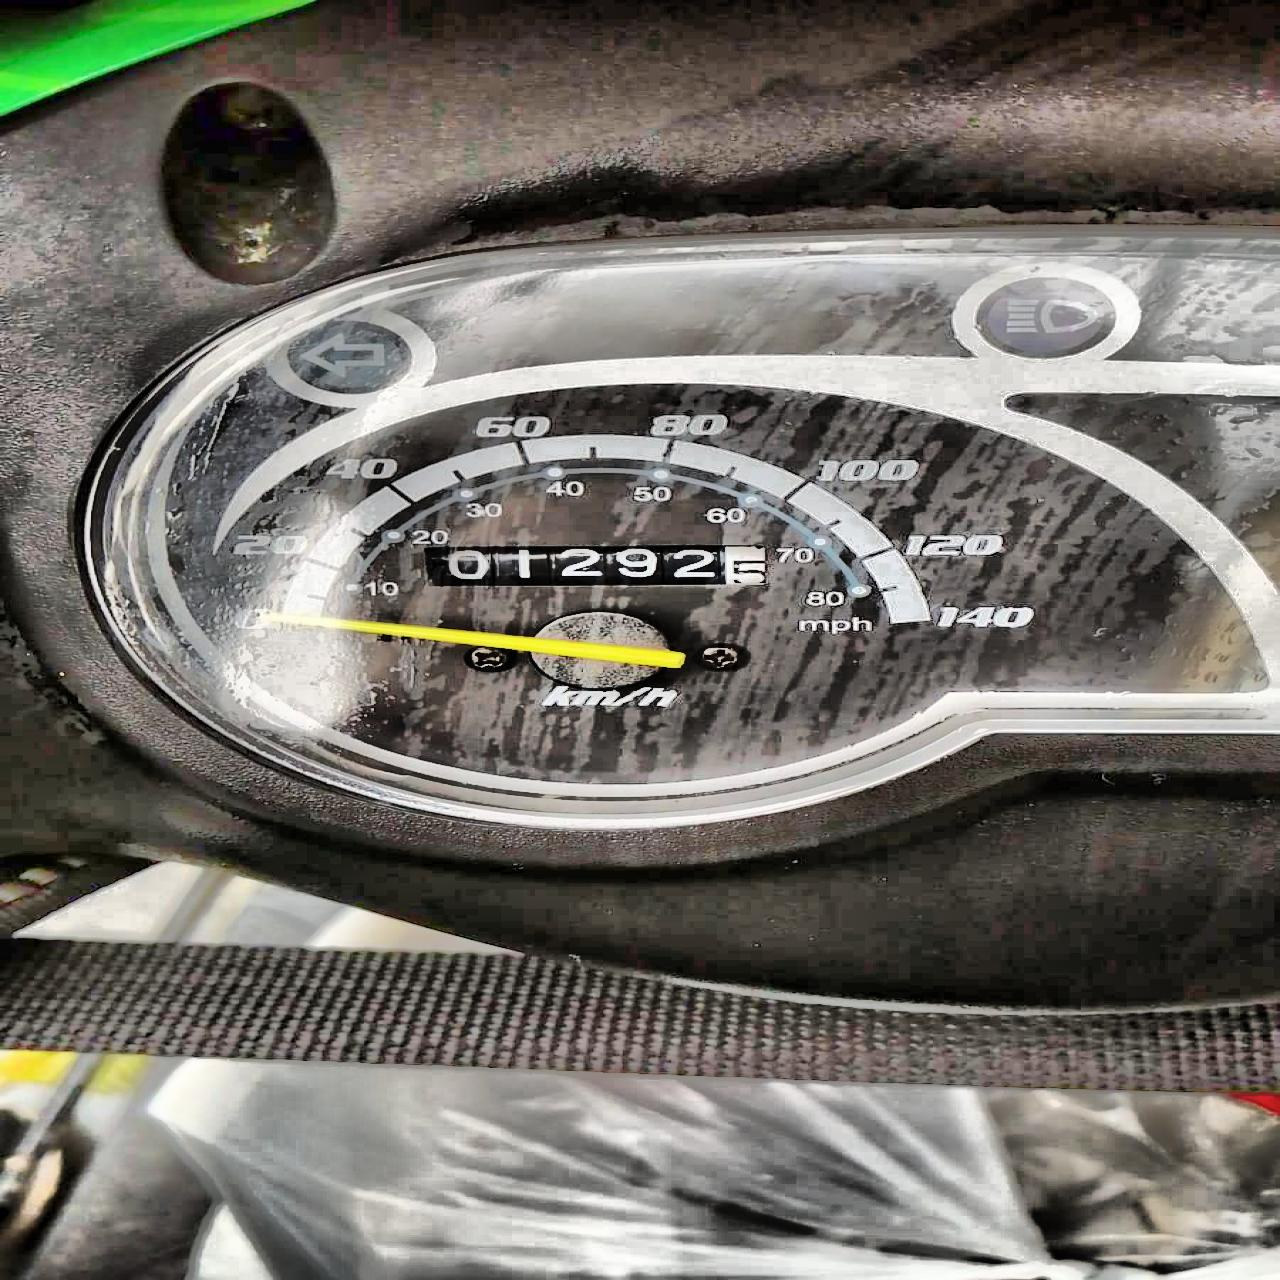0: (442, 547, 488, 580)
1: (512, 546, 536, 581)
2: (670, 547, 717, 579), (558, 547, 601, 579)
5: (728, 558, 768, 585)
9: (612, 547, 658, 580)
odometer: (420, 543, 772, 587)
